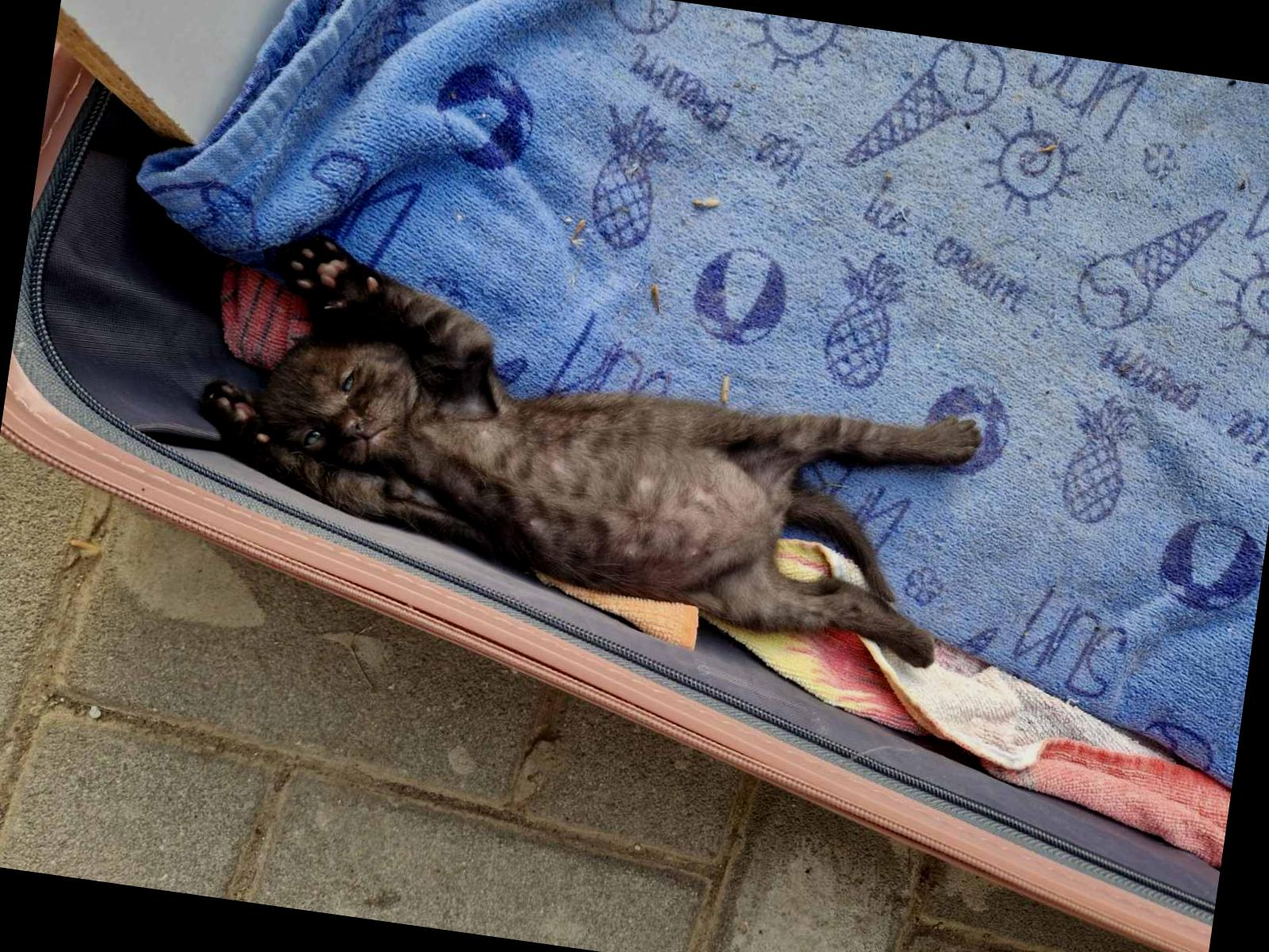macka: (163, 209, 989, 674)
